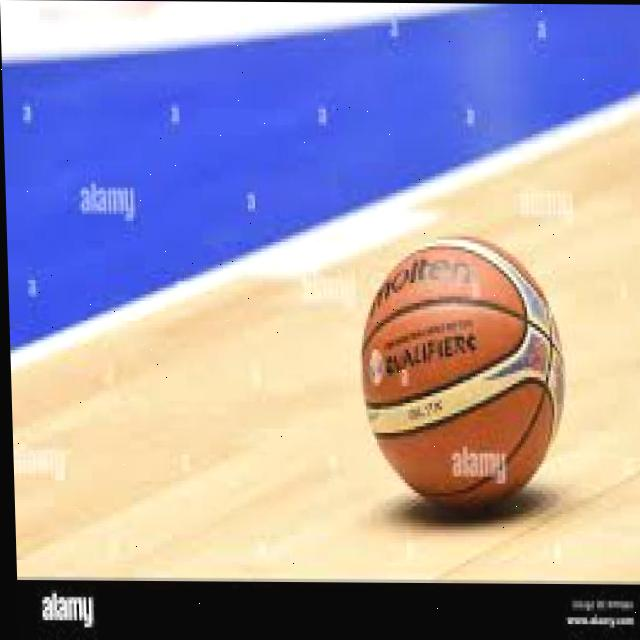Basketball: (352, 237, 566, 506)
